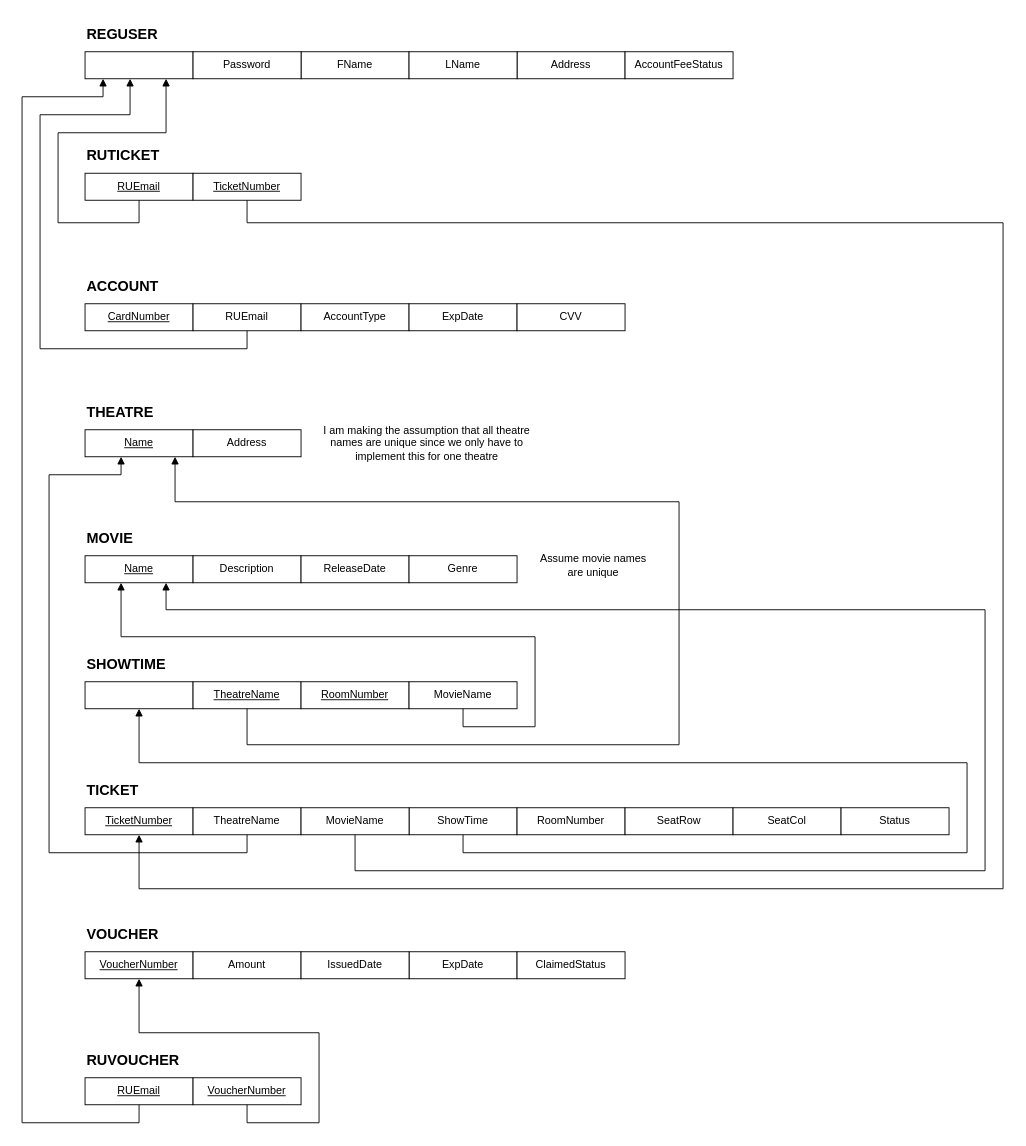
This 1026x1146 diagram has some shape labels left out. Here are the shapes that lost their labels. From the top down, the centre of each, then its label:
At point (138, 65): "Email".
At point (138, 695): "Time".
